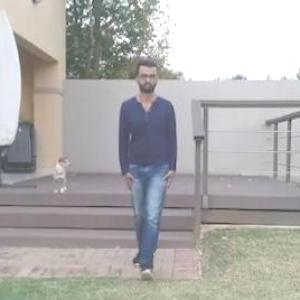follow: (106, 44, 177, 299)
